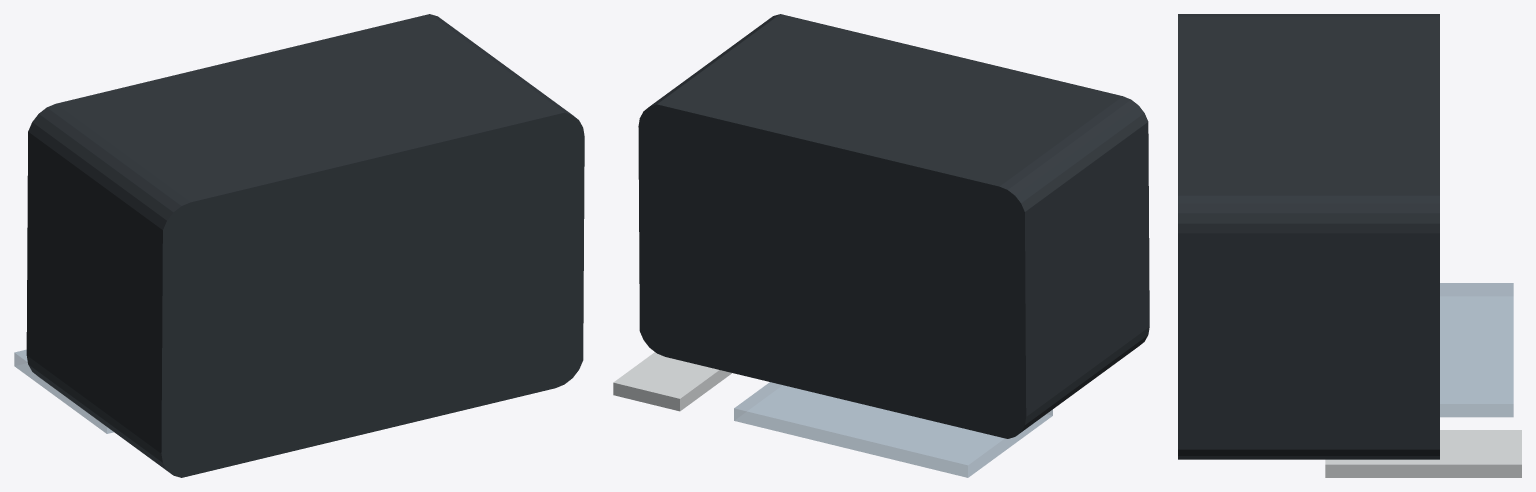
File: MICROWAVE_001.glb
The picture shows the model from 3 angles, left to right: view 1: azimuth 30°, elevation 25°; view 2: azimuth 150°, elevation 25°; view 3: azimuth 270°, elevation 25°; orthographic projection. The views are drawn at different scales.
Visible parts, largest first — view 1: body_000, door_window_001; view 2: body_000, door_window_001, control_panel_002; view 3: body_000, door_window_001, control_panel_002.
Part boxes in pixels (x1,y1,x2,y2): body_000: [26, 14, 584, 477]; door_window_001: [14, 350, 113, 433]; body_000: [638, 14, 1149, 438]; door_window_001: [734, 382, 1052, 477]; control_panel_002: [613, 352, 731, 411]; body_000: [1178, 14, 1439, 459]; door_window_001: [1440, 283, 1513, 417]; control_panel_002: [1325, 430, 1521, 477].
Size of the model in its own units: 0.58 by 0.379 by 0.42.
